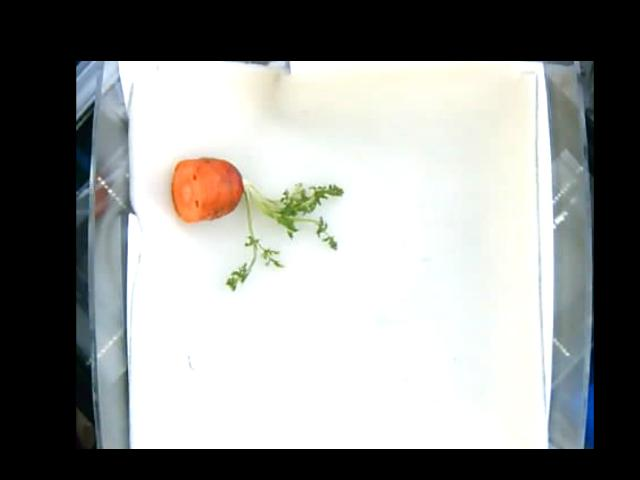Carrot: (171, 157, 347, 292)
